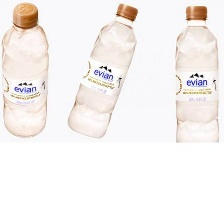bottle: (63, 2, 144, 139), (167, 3, 224, 148), (0, 0, 55, 139)
